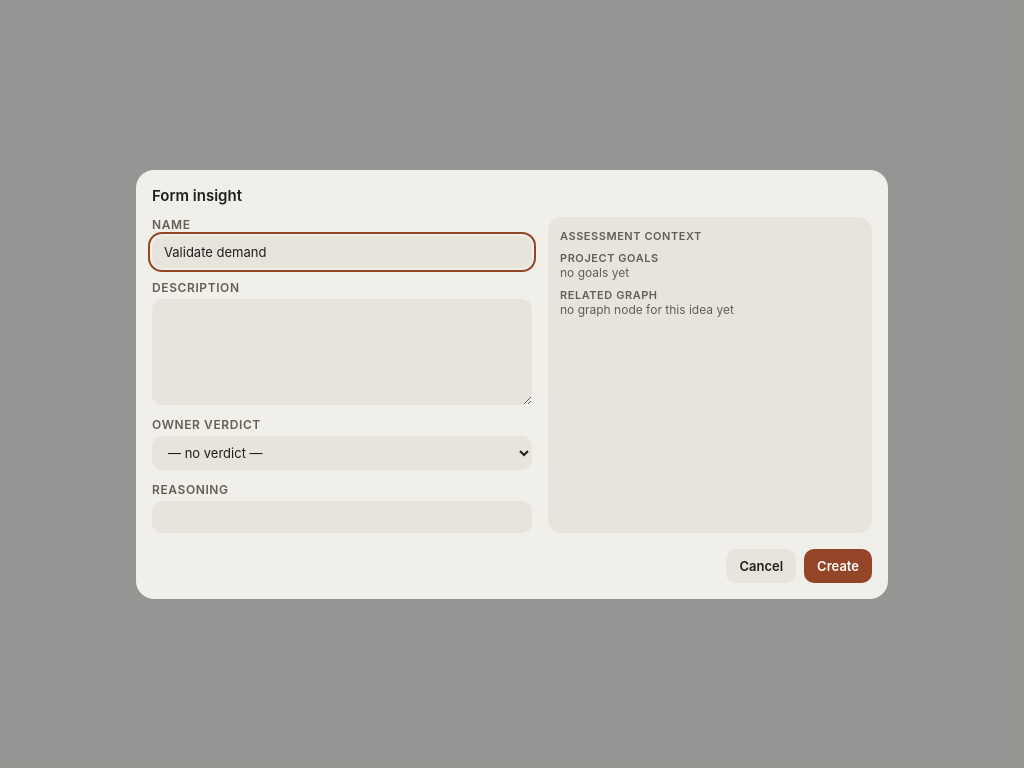
Test: FormInsightDialog › a failed create shows the mapped error inline and keeps the dialog open
Step 1. Click the button with test id "form-insight-create" → (838, 566), box x1=804 y1=548 x2=872 y2=582
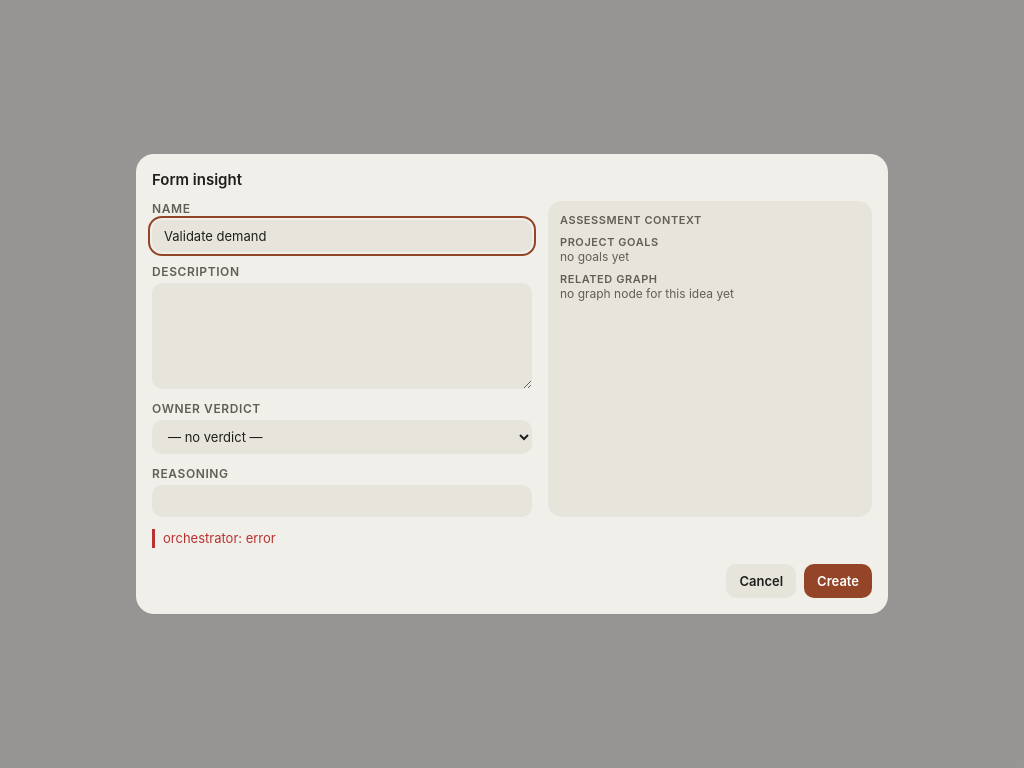
Expected: the dialog with test id "form-insight-dialog" is shown, x1=136 y1=154 x2=888 y2=614
Expected: the message "orchestrator: error" is shown, x1=152 y1=529 x2=872 y2=548
